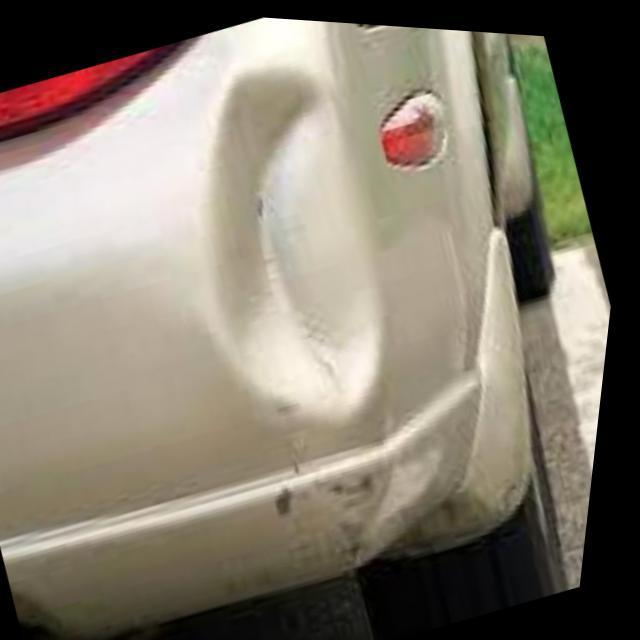dent: (204, 48, 461, 548)
